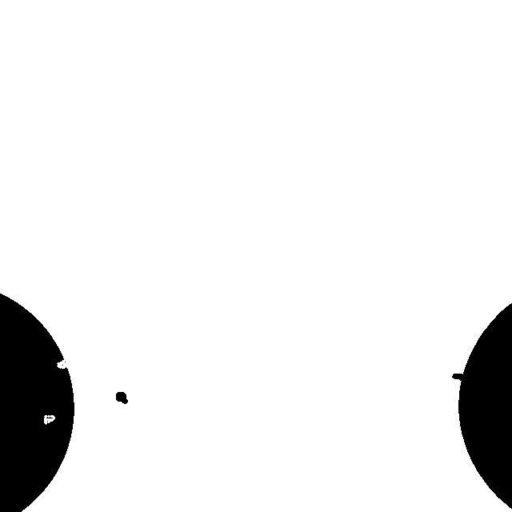copper: (108, 384, 135, 411)
mousebite: (49, 352, 73, 376)
pin-hole: (36, 407, 62, 432)
spur: (444, 366, 473, 390)
